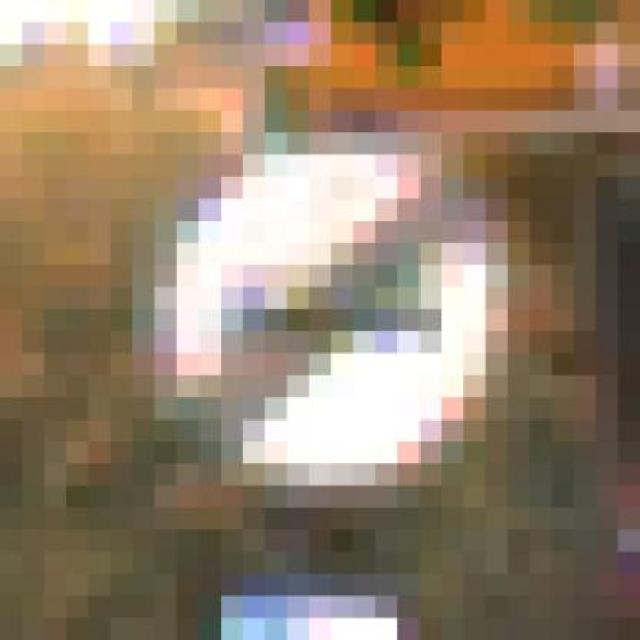No_Over_Taking: (110, 89, 552, 552)
